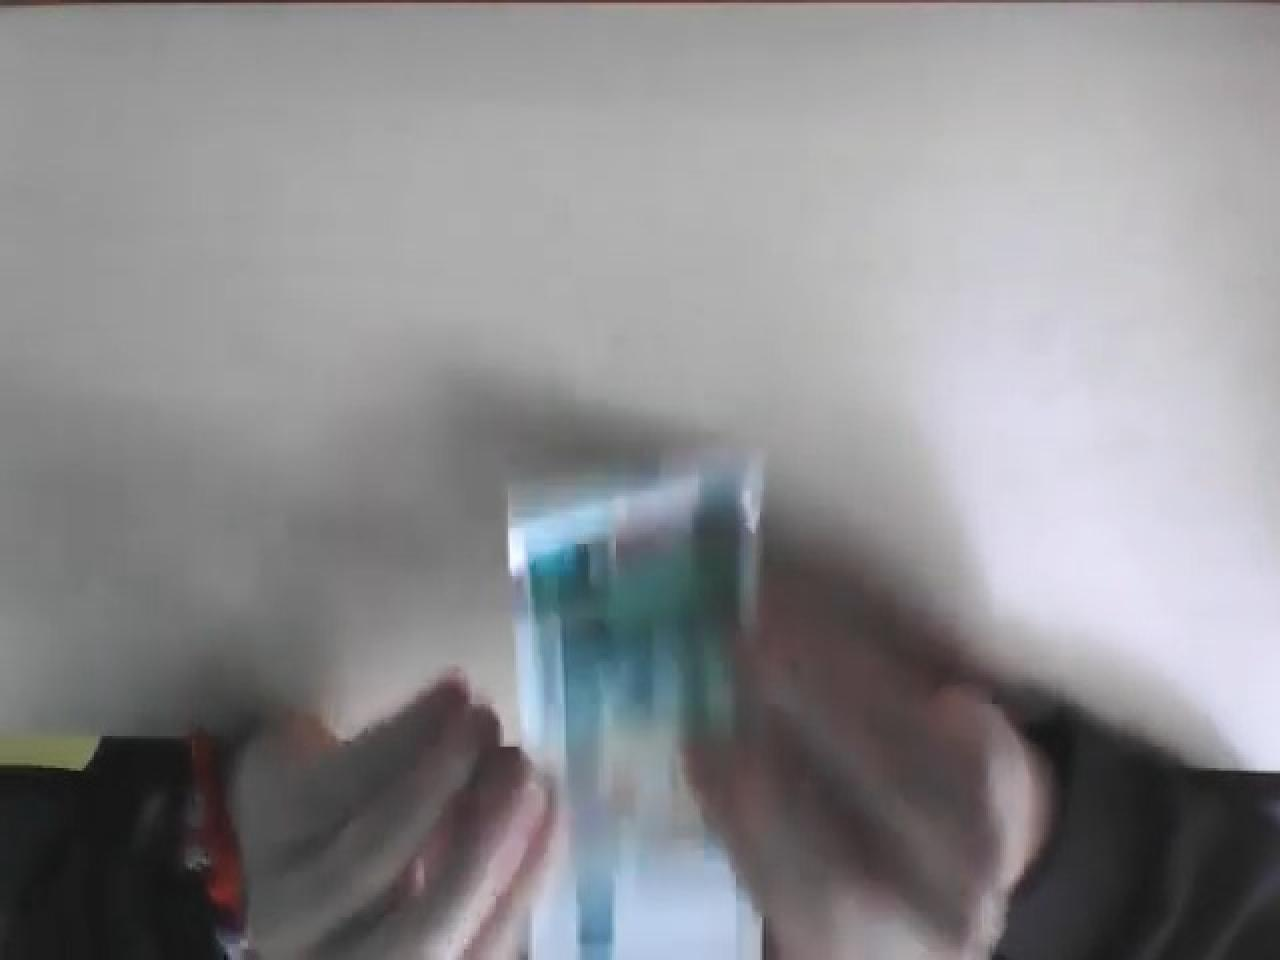100leva: (504, 443, 772, 960)
